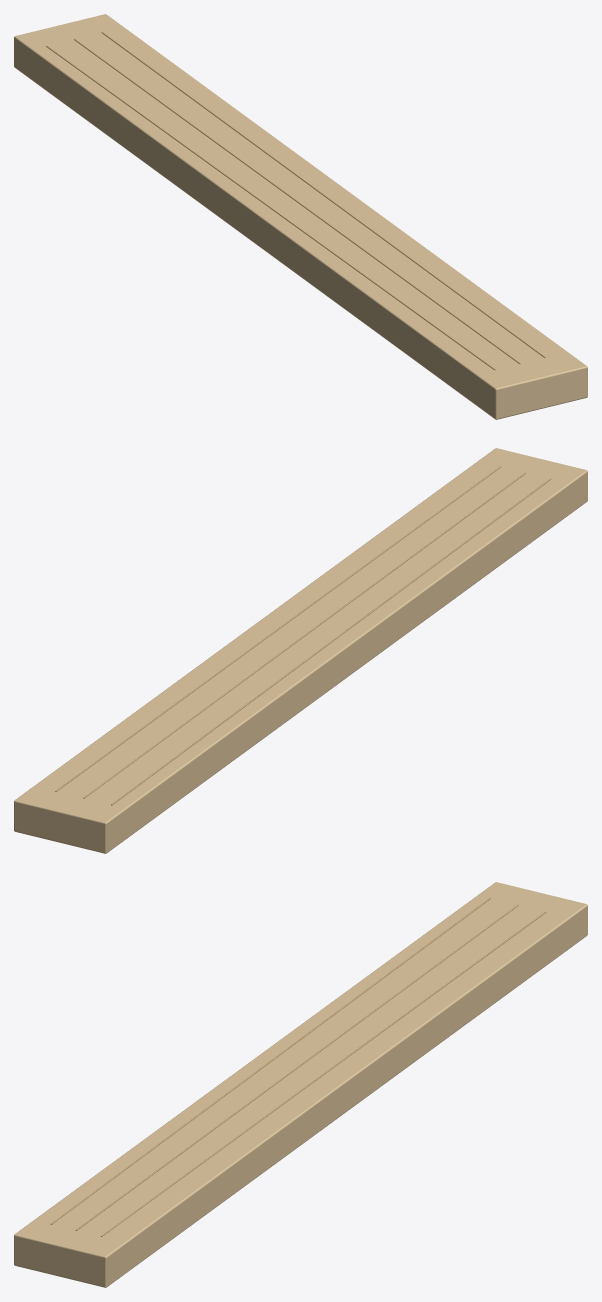
The model's file is sawmill-and-timber-yard-sawn-board-43393c82__31190.glb.
3 renders of one model, top to bottom at view 1: azimuth 30°, elevation 25°; view 2: azimuth 150°, elevation 25°; view 3: azimuth 330°, elevation 25°, orthographic.
Parts seen in each view (by area): view 1: sawn-board; view 2: sawn-board; view 3: sawn-board.
Part boxes in pixels (left/top/right/bottom): sawn-board: left=14, top=14, right=587, bottom=419; sawn-board: left=14, top=448, right=587, bottom=853; sawn-board: left=14, top=882, right=587, bottom=1287.
Bounding box in the file's own units: 0.2 × 0.0673 × 1.8.
